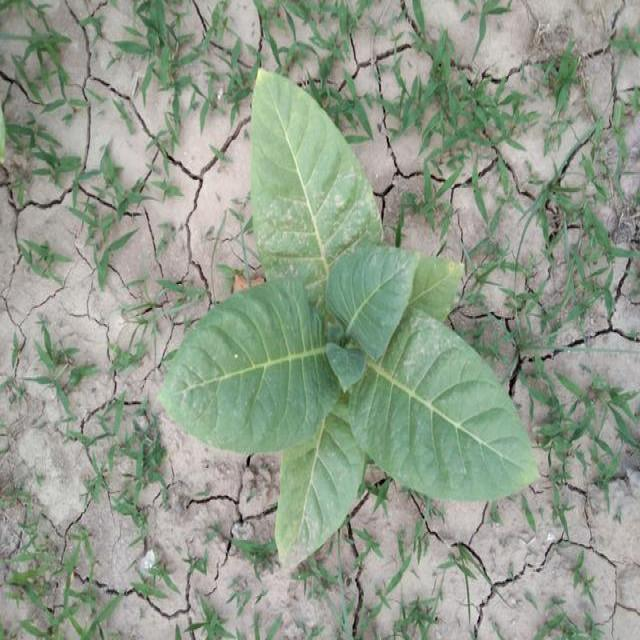crop: (160, 67, 540, 567)
